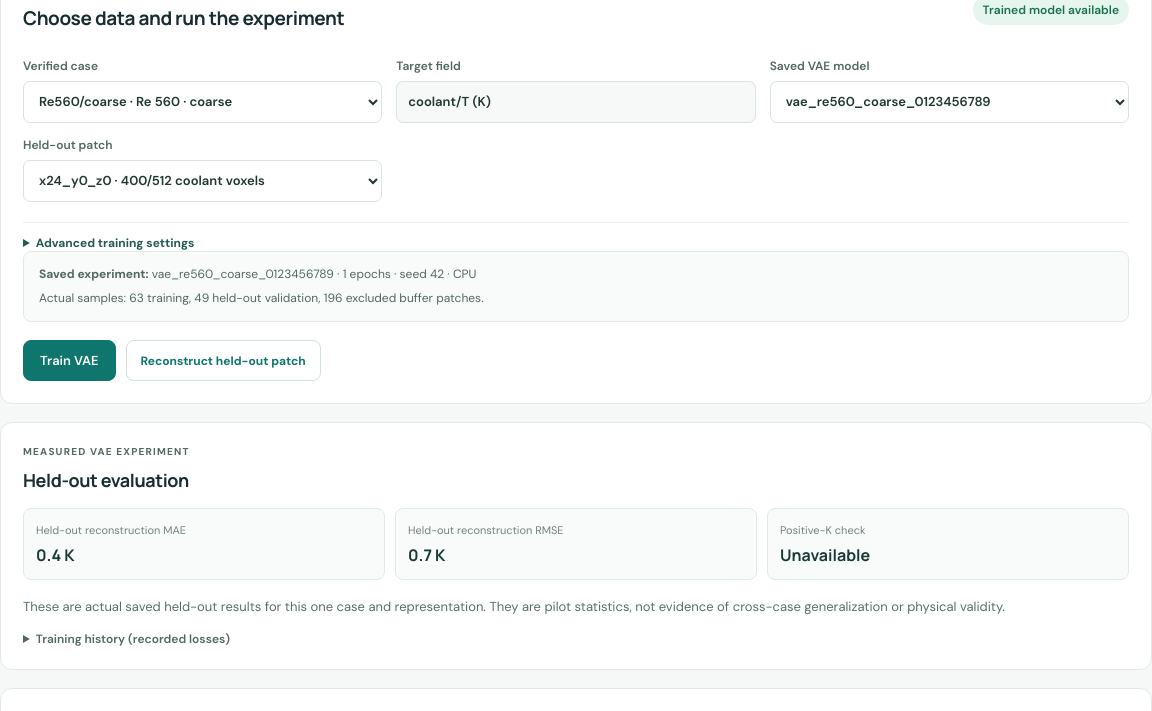
it: GenerativeAiLab › uses actual saved model metadata and renders real VAE reconstruction output
(page scrolled)
Click the button "Reconstruct held-out patch" at (223, 361), box top-left (126, 340), bottom-right (321, 381)
(page scrolled)
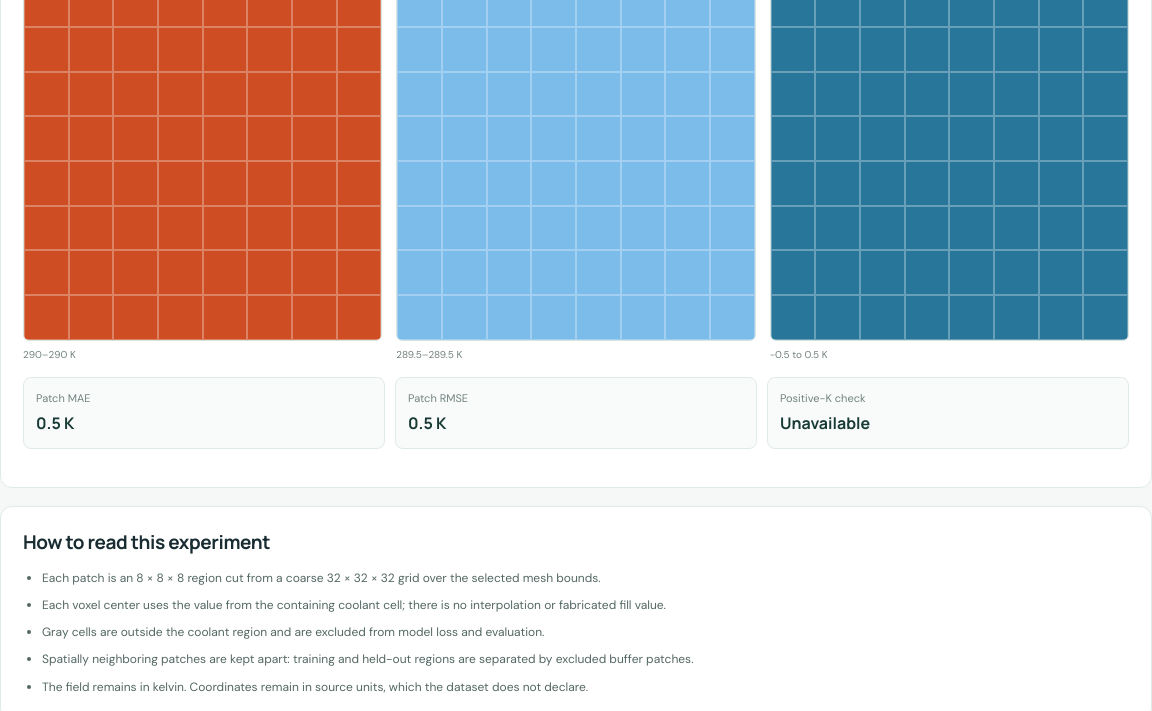
Check: the text "Patch MAE" is shown, box top-left (36, 391), bottom-right (90, 405)
